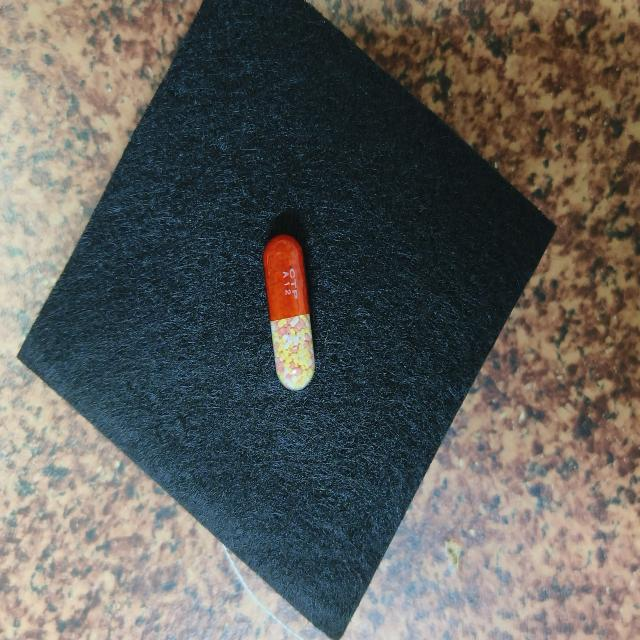Intact Capsule: (263, 234, 315, 390)
